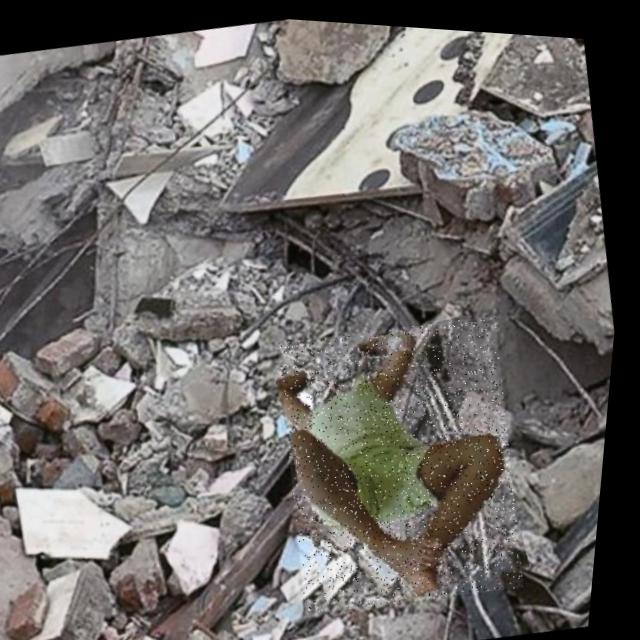Person in Rubble: (265, 297, 553, 621)
